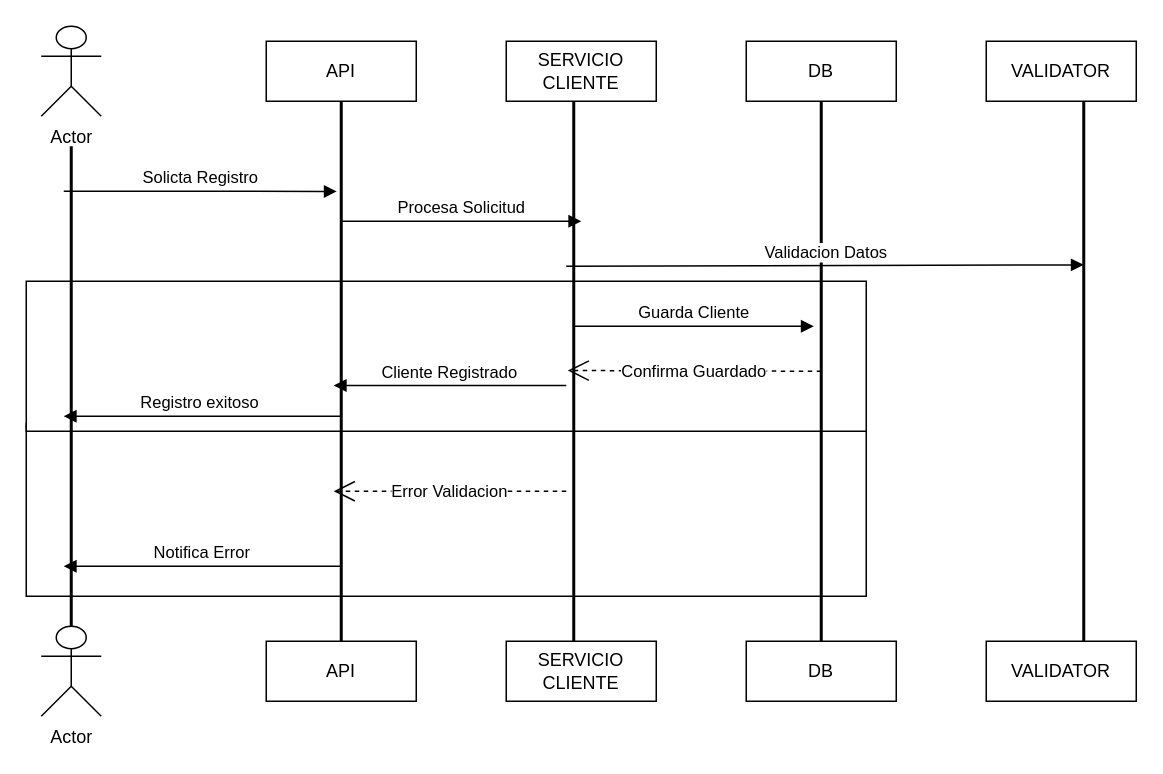
The diagram is 1163 pixels wide and 774 high, and some of its shapes have lost their labels. The shapes that lost their labels are listed below. From the top down, each one's centre as x and y in pixels, then its label:
the point at 445,355: Datos Validos
the point at 445,509: Datos invalidos
